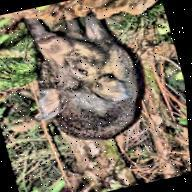boar: (1, 0, 162, 167)
